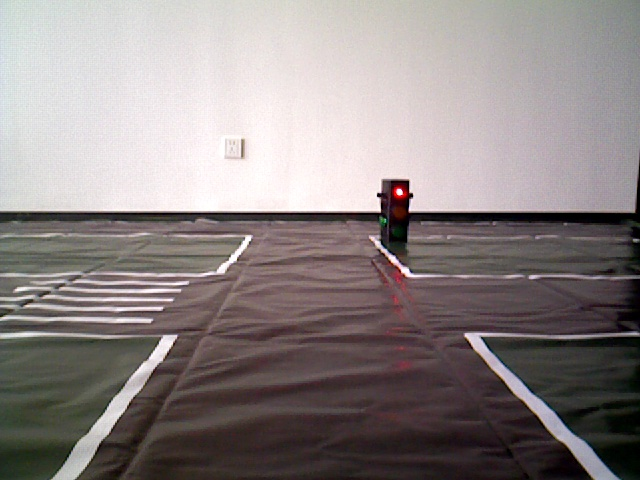red: (380, 184, 407, 242)
